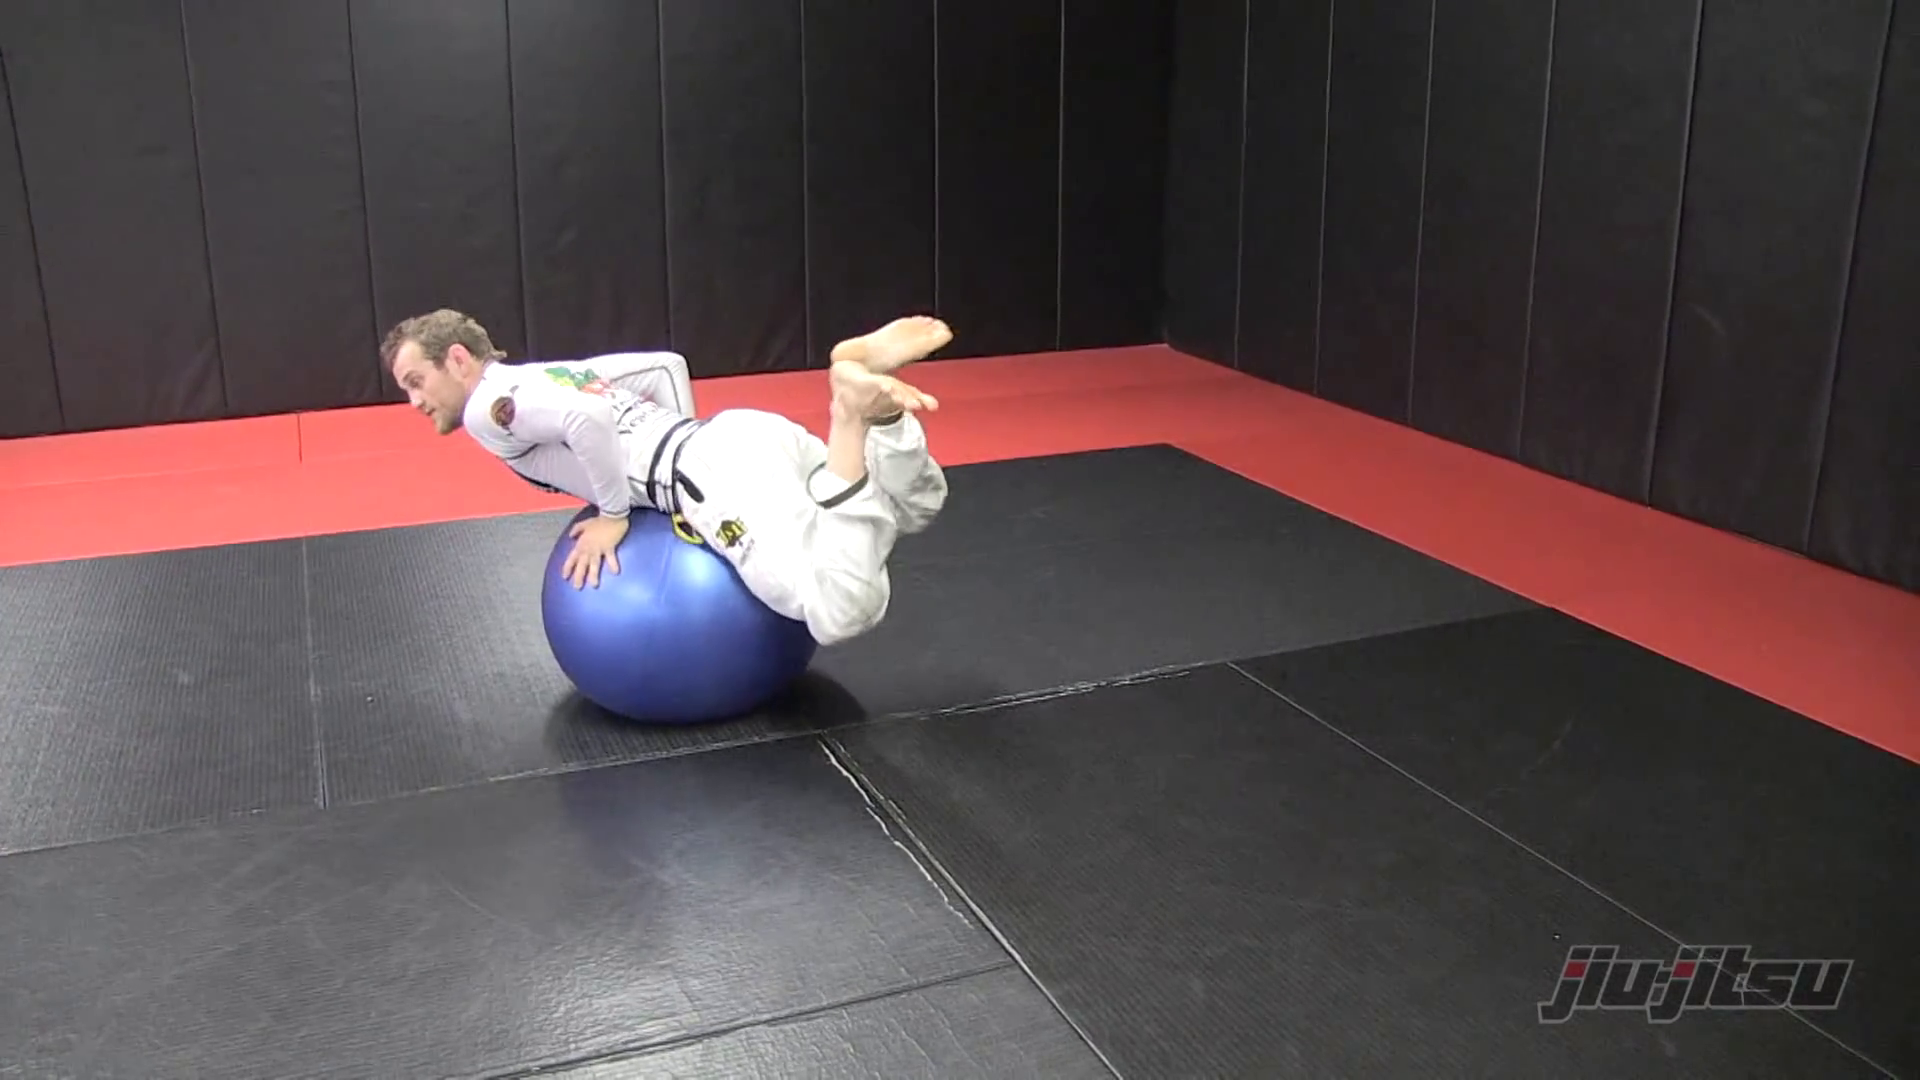yogaball: (524, 495, 837, 724)
